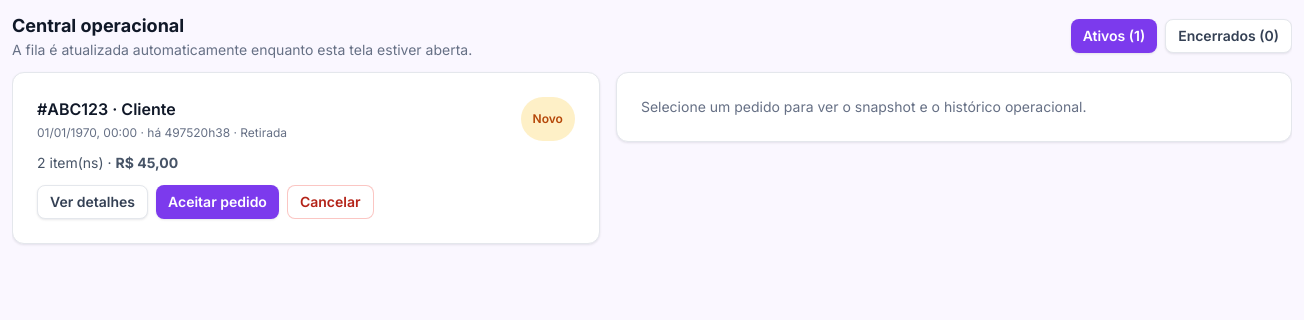
Test: operação de pedidos no painel › distingue notificação ignorada de falha de envio
This screenshot has width=1304, height=320.
Step 1. Click the button "Aceitar pedido" → click(217, 202), box [156, 185, 279, 219]
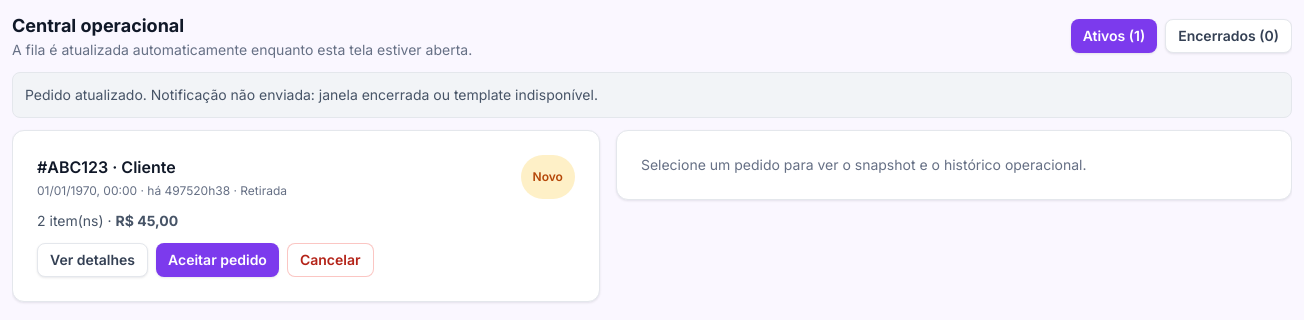
Check: the message shows "Notificação não enviada", box [25, 86, 598, 103]
